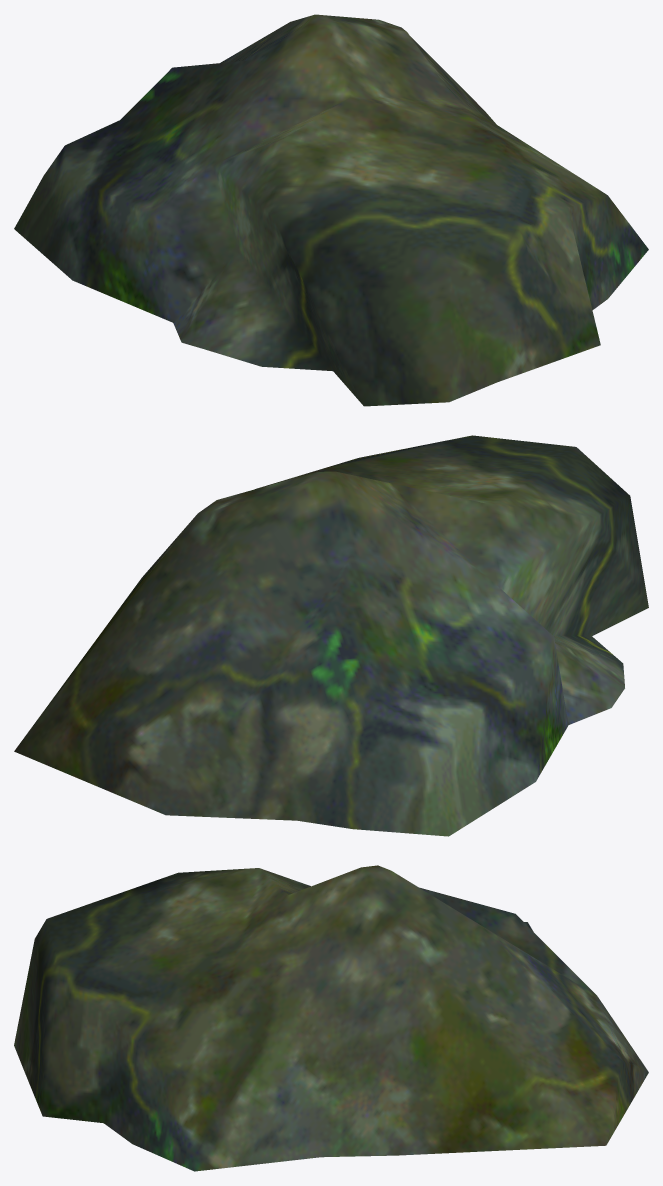
Rendered from 10204_stone01.FBX.
3 renders of one model, top to bottom at view 1: azimuth 30°, elevation 25°; view 2: azimuth 150°, elevation 25°; view 3: azimuth 270°, elevation 25°, orthographic. The views are drawn at different scales.
Visible parts, largest first — view 1: 10204_stone01; view 2: 10204_stone01; view 3: 10204_stone01.
Part boxes in pixels (x1,y1,x2,y2): 10204_stone01: [14, 14, 648, 406]; 10204_stone01: [14, 435, 648, 836]; 10204_stone01: [14, 865, 648, 1171].
Bounding box in the file's own units: 214 × 100 × 278.
